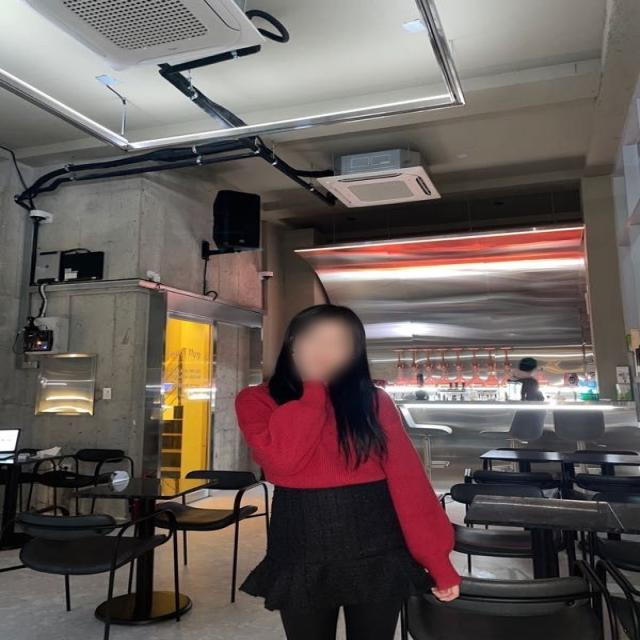skirt: (241, 479, 432, 609)
sweater: (240, 380, 463, 587)
